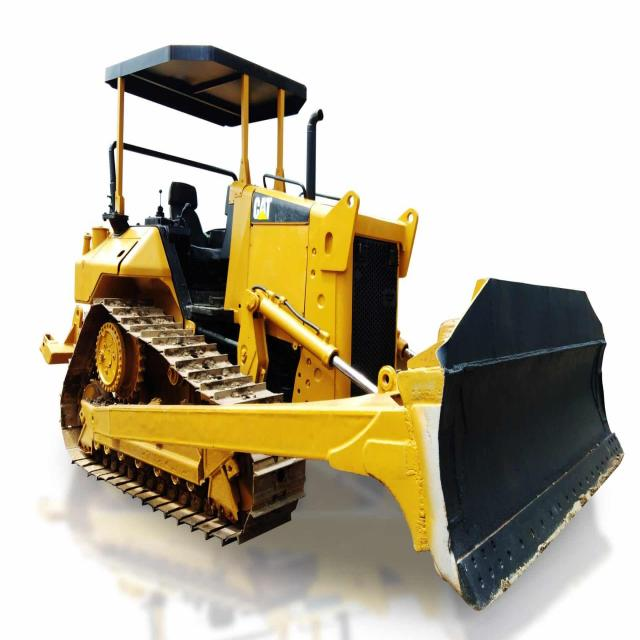Bulldozer: (35, 33, 630, 607)
